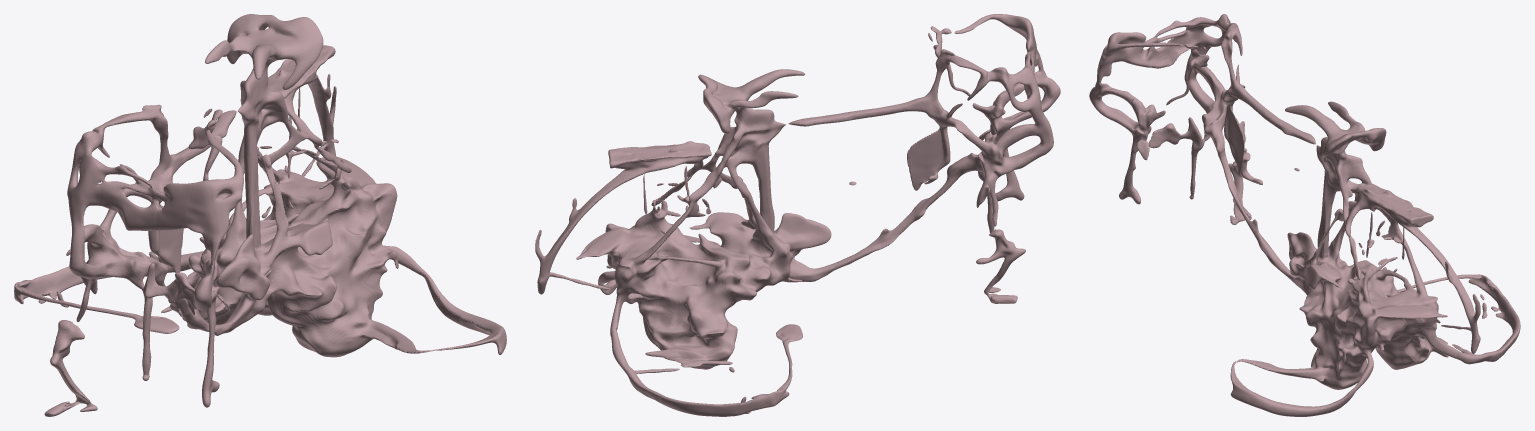
The model's file is bicycle_01.glb.
3 renders of one model, left to right at view 1: azimuth 30°, elevation 25°; view 2: azimuth 150°, elevation 25°; view 3: azimuth 270°, elevation 25°, orthographic. The views are drawn at different scales.
Parts seen in each view (by area): view 1: world; view 2: world; view 3: world.
Part boxes in pixels (x1,y1,x2,y2): world: (14,14,506,416); world: (535,14,1060,416); world: (1089,14,1520,416).
Size of the model in its own units: 1.67 by 1.19 by 1.77.
